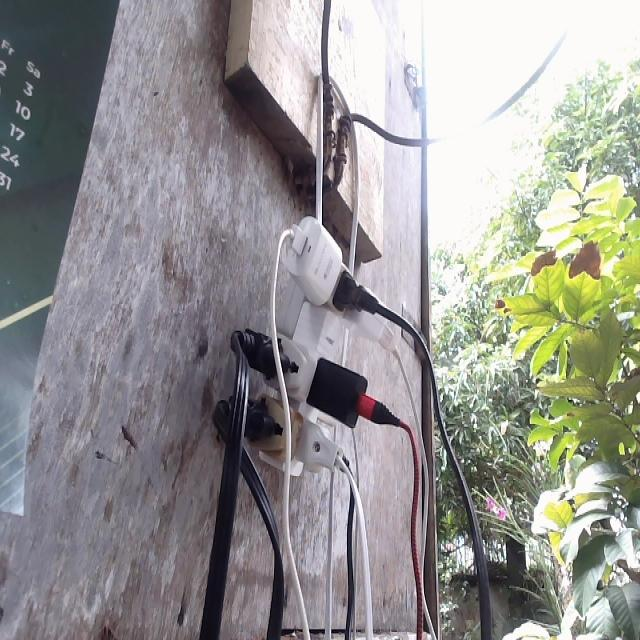-: (231, 216, 389, 479)
